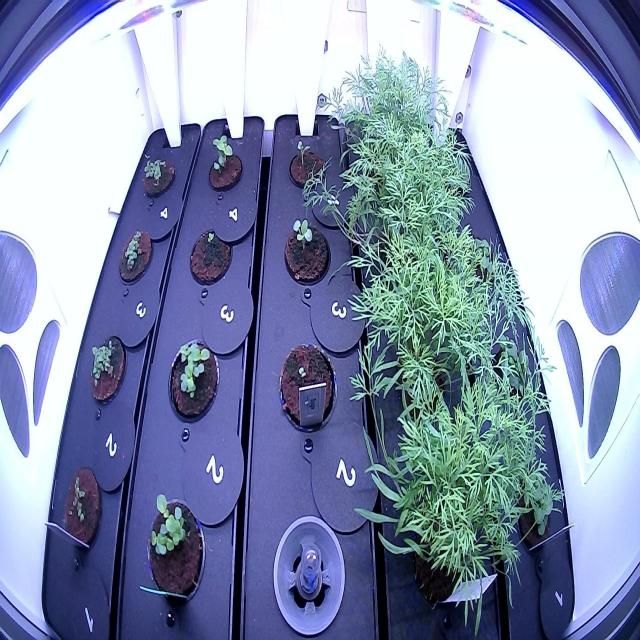germination: (138, 484, 210, 614), (273, 329, 340, 438), (164, 331, 223, 431), (278, 213, 333, 298), (82, 324, 130, 417), (62, 459, 104, 561), (184, 222, 236, 293), (198, 129, 247, 203), (283, 134, 330, 198), (115, 221, 156, 292), (136, 152, 178, 202)
